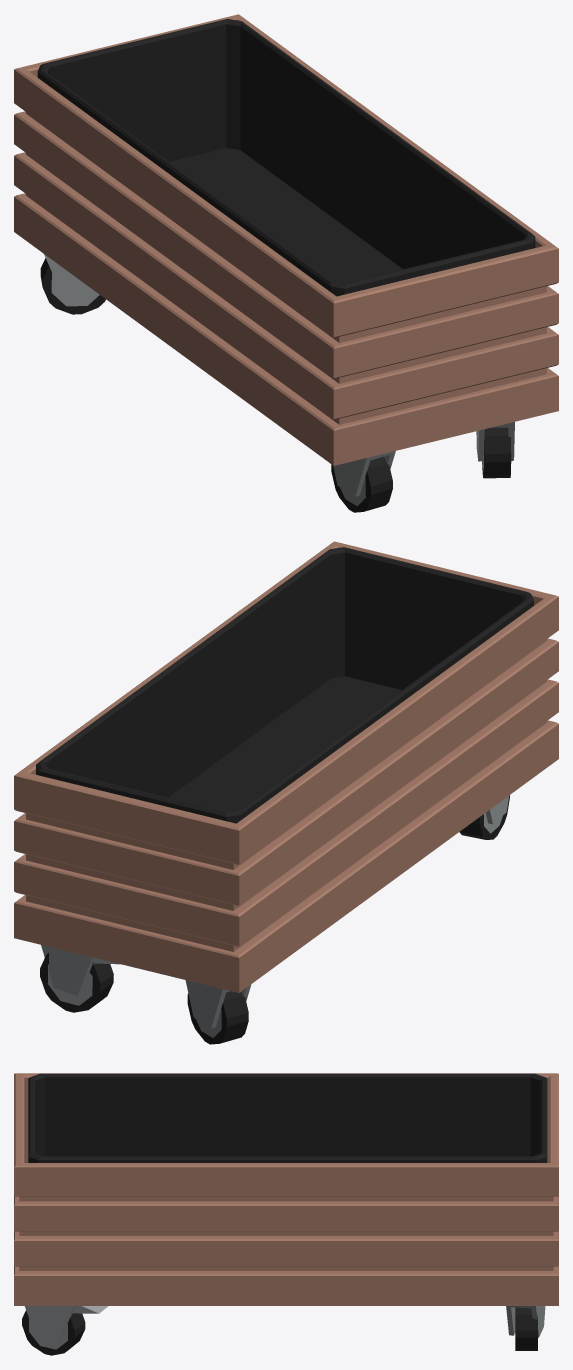
File: Planter_Large.fbx
3 views of the same model, one above another, from view 1: azimuth 30°, elevation 25°; view 2: azimuth 150°, elevation 25°; view 3: azimuth 270°, elevation 25° (orthographic). The views are drawn at different scales.
Parts seen in each view (by area): view 1: Planter_Large; view 2: Planter_Large; view 3: Planter_Large.
Boxes of the visible parts, box(x1,y1,x2,y2) form: Planter_Large: box(14, 14, 558, 512); Planter_Large: box(14, 541, 558, 1044); Planter_Large: box(14, 1073, 558, 1355).
Bounding box in the file's own units: 200 × 204 × 492.
